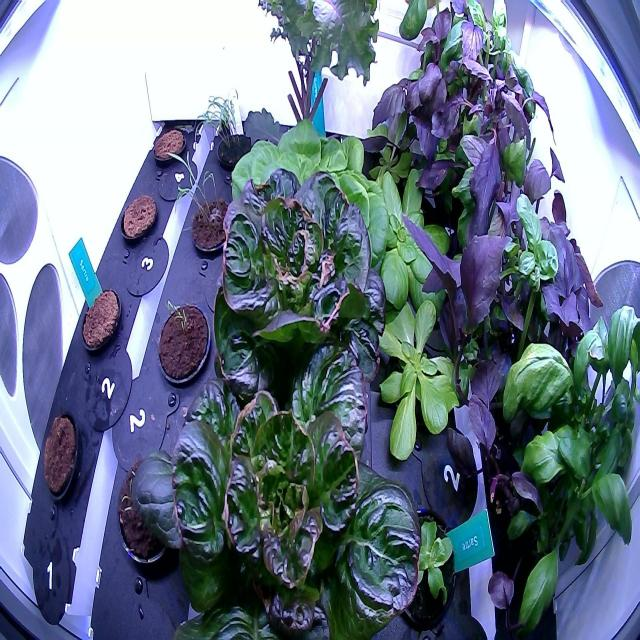Ready: (162, 304, 428, 638), (208, 159, 396, 403), (214, 107, 391, 311)
germination: (114, 444, 176, 568), (150, 294, 213, 389)
pod: (38, 397, 92, 507), (77, 277, 126, 357), (148, 117, 192, 173), (118, 187, 158, 248)
young: (370, 293, 475, 466), (361, 154, 458, 314), (386, 508, 464, 632), (359, 127, 420, 191)
